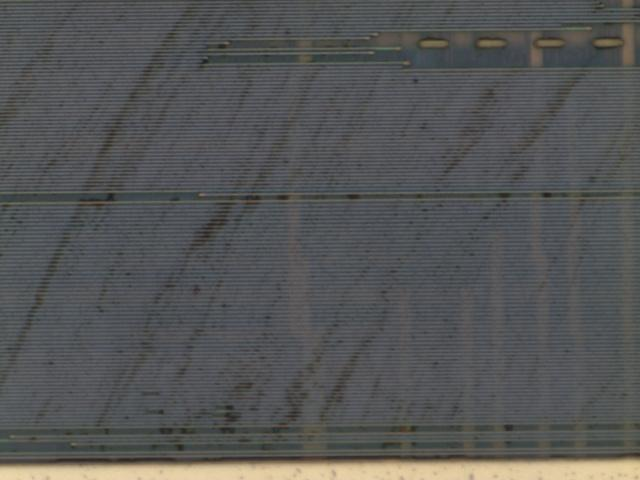SCRATCH: (1, 1, 638, 454)
